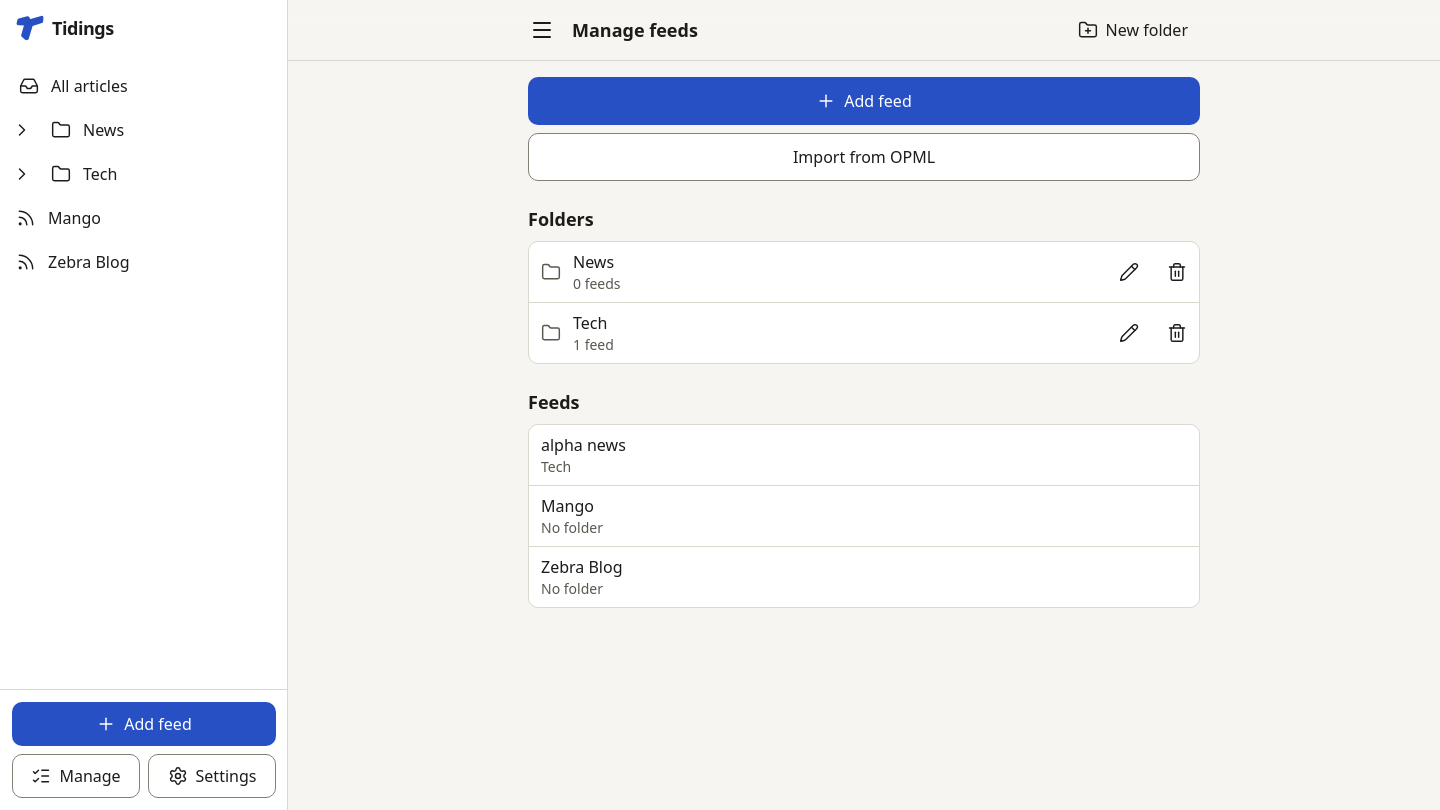
Test: AC2 and AC3: names › renaming a folder to another folder’s name shows the inline error
Expected: the heading "Folders" is shown, [528,207,594,231]
Click the button named "Rename News" at (1129, 272), box [1107,250,1151,294]
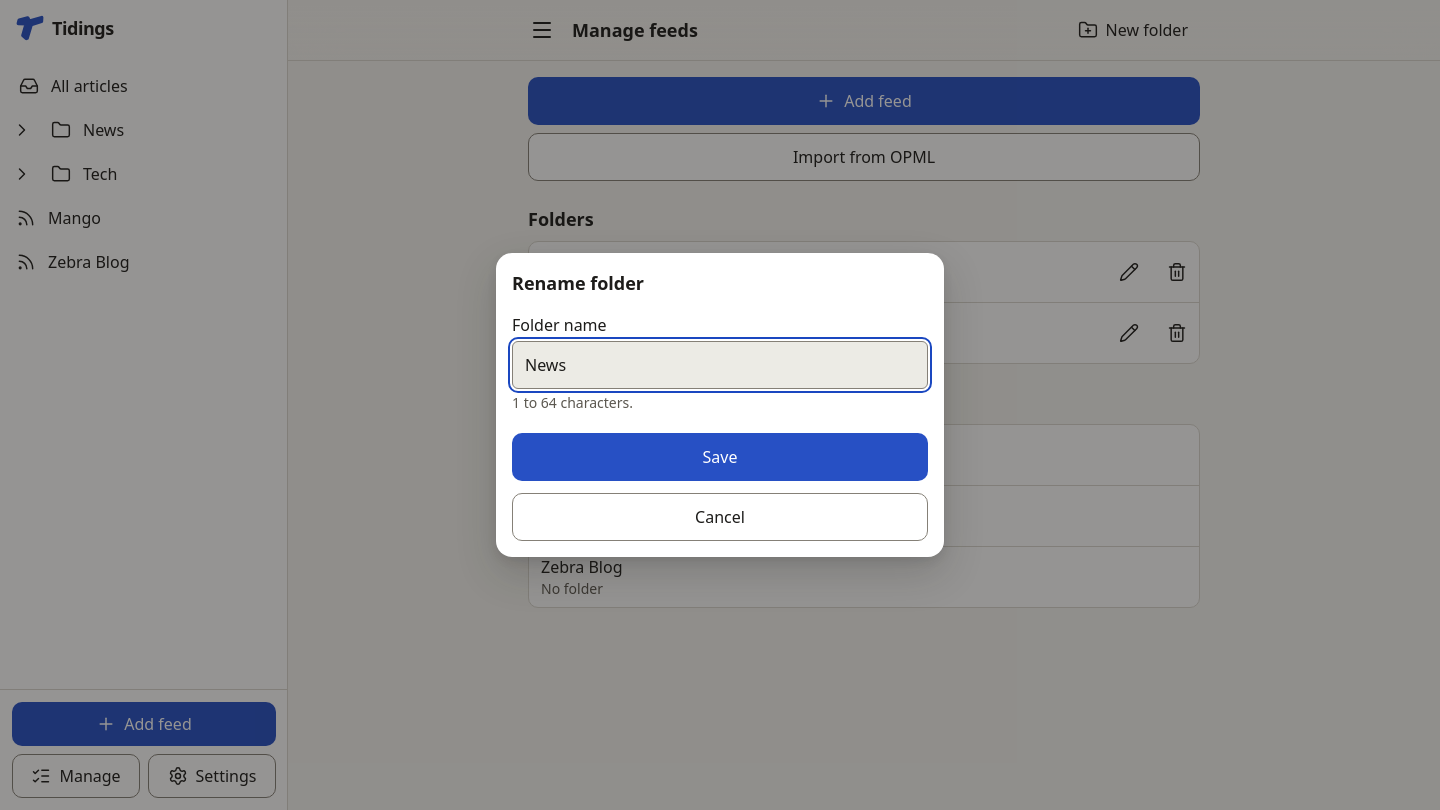
Replace the text in the field labelled "Folder name" with "TECH" at (720, 365), box [512,341,928,389]
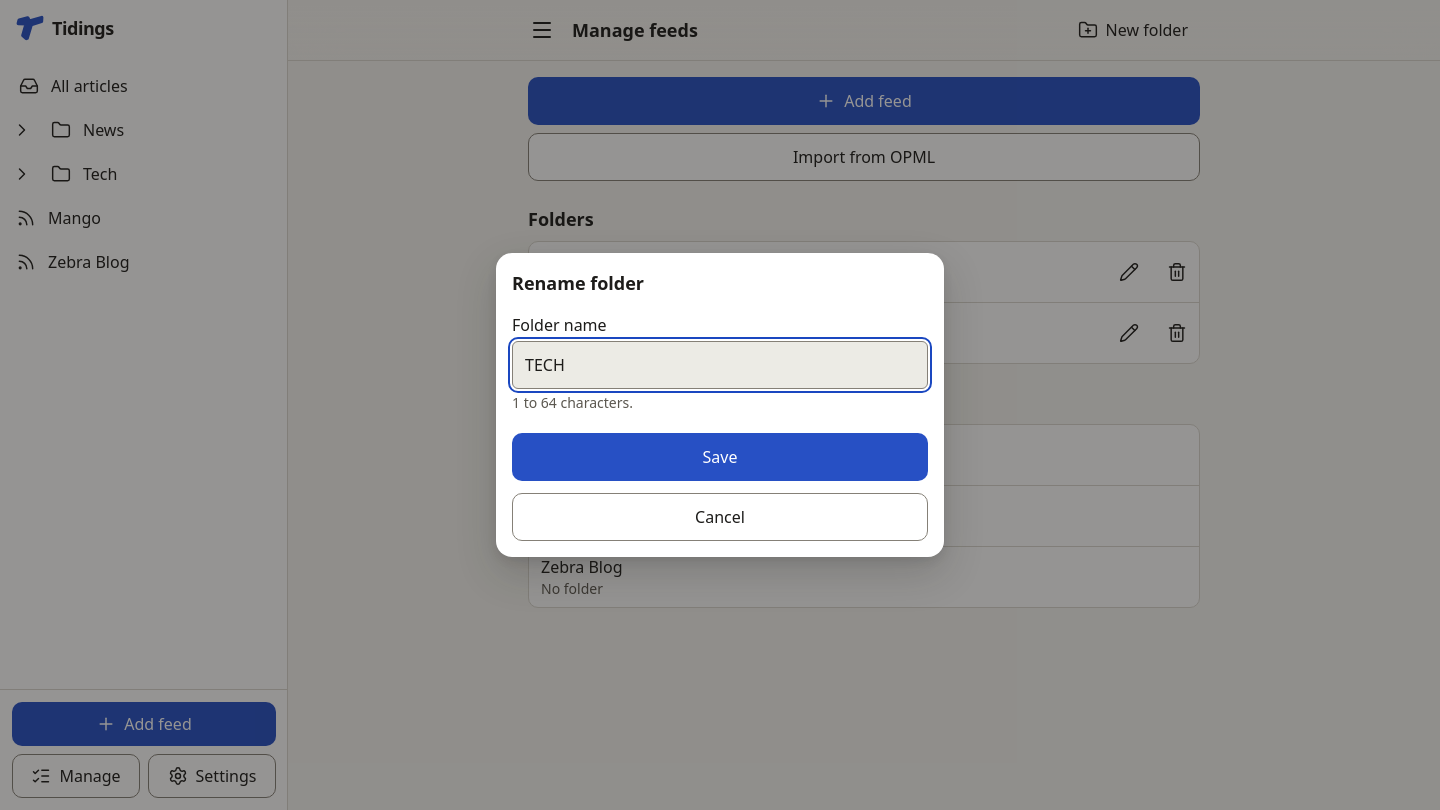
Click the button "Save" at (720, 457), box [512,433,928,481]
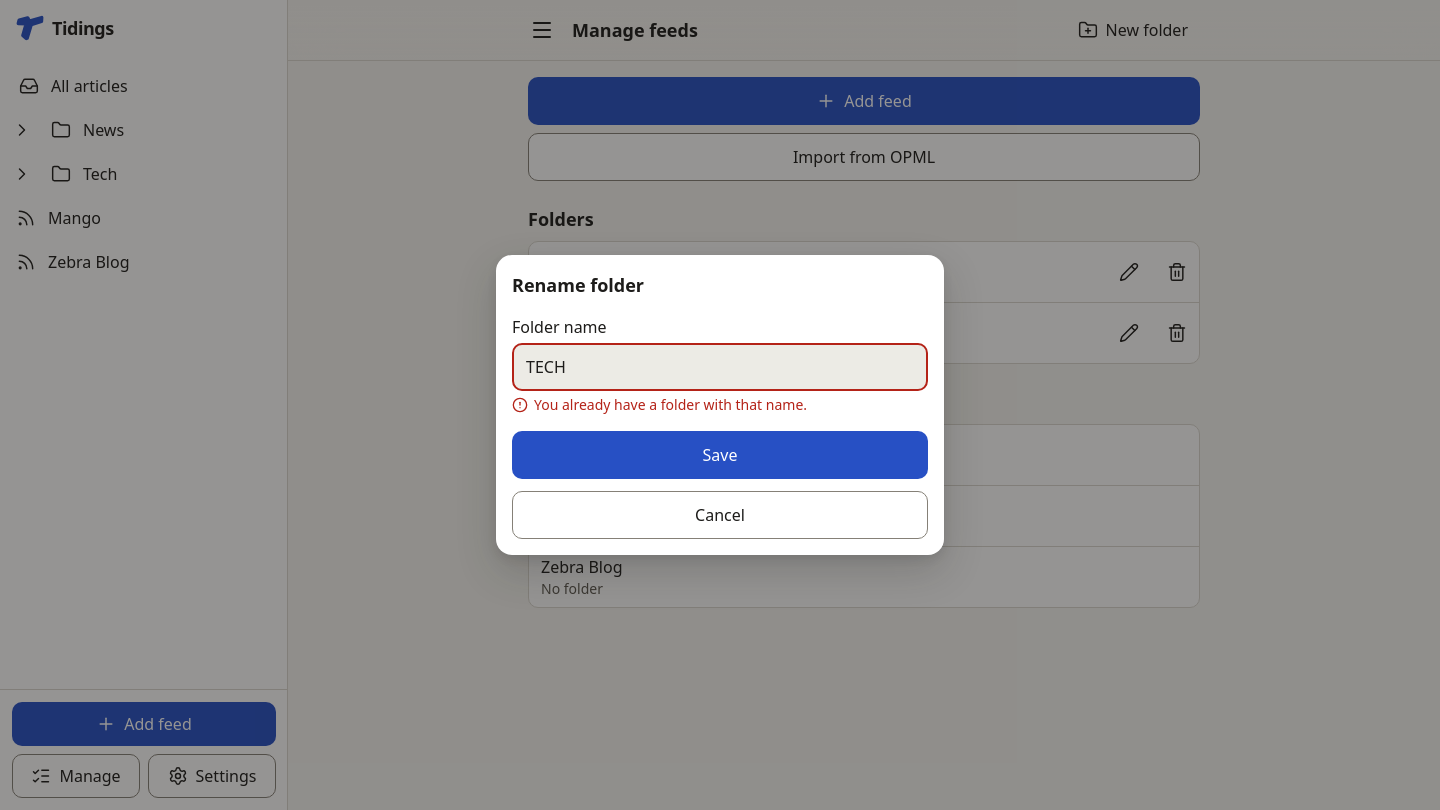
Result: the text "You already have a folder with that name." is shown at [534,395,807,415]
